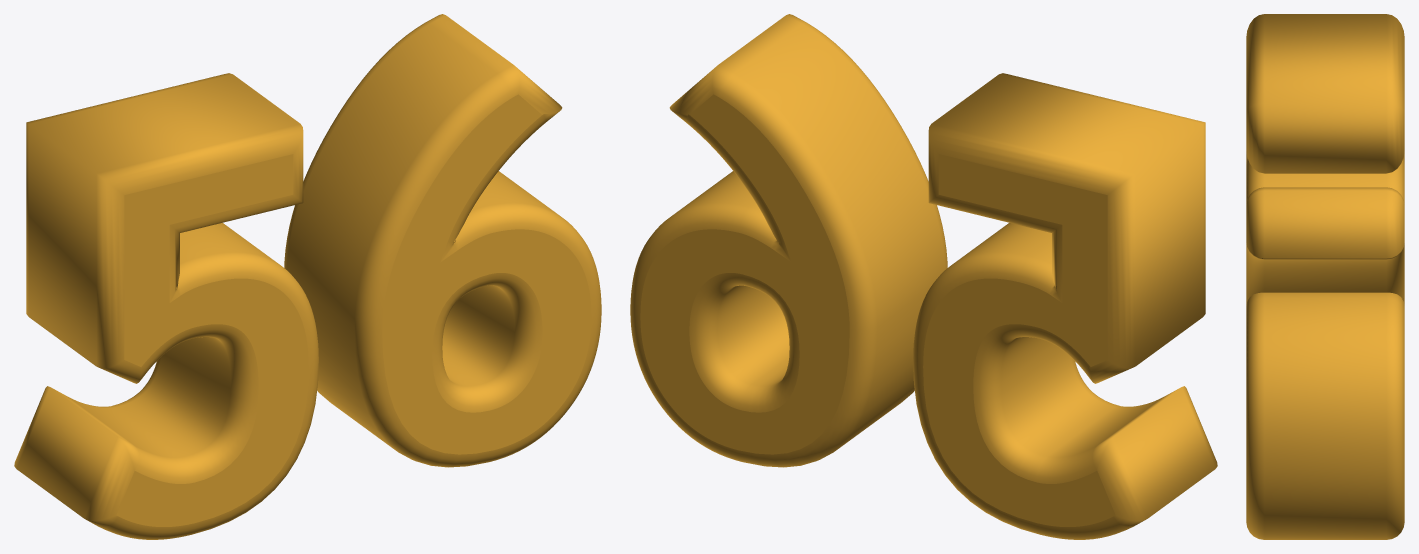
The picture shows the model from 3 angles, left to right: view 1: azimuth 30°, elevation 25°; view 2: azimuth 150°, elevation 25°; view 3: azimuth 270°, elevation 25°; orthographic projection. The views are drawn at different scales.
Visible parts, largest first — view 1: Text; view 2: Text; view 3: Text.
Part boxes in pixels (x1,y1,x2,y2): Text: [14, 14, 601, 539]; Text: [630, 14, 1217, 539]; Text: [1246, 14, 1404, 539].
Size of the model in its own units: 87.79 by 63.4 by 26.
